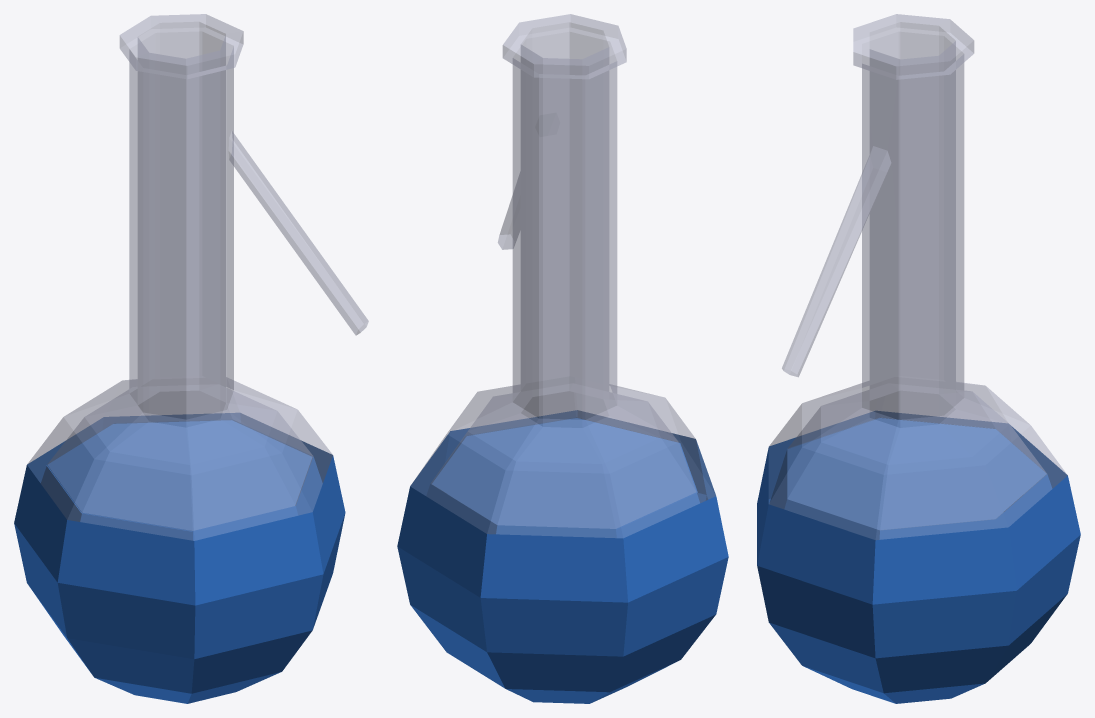
File: probetabong.fbx
The picture shows the model from 3 angles, left to right: view 1: azimuth 30°, elevation 25°; view 2: azimuth 150°, elevation 25°; view 3: azimuth 270°, elevation 25°; orthographic projection.
Visible parts, largest first — view 1: probeta bong, Plane; view 2: probeta bong, Plane; view 3: probeta bong, Plane.
Part boxes in pixels (bbox=[...]): probeta bong: bbox=[14, 14, 368, 703]; Plane: bbox=[46, 420, 312, 531]; probeta bong: bbox=[397, 14, 728, 703]; Plane: bbox=[432, 418, 697, 529]; probeta bong: bbox=[757, 14, 1080, 703]; Plane: bbox=[787, 418, 1046, 529].
Size of the model in its own units: 237 by 501 by 231.
